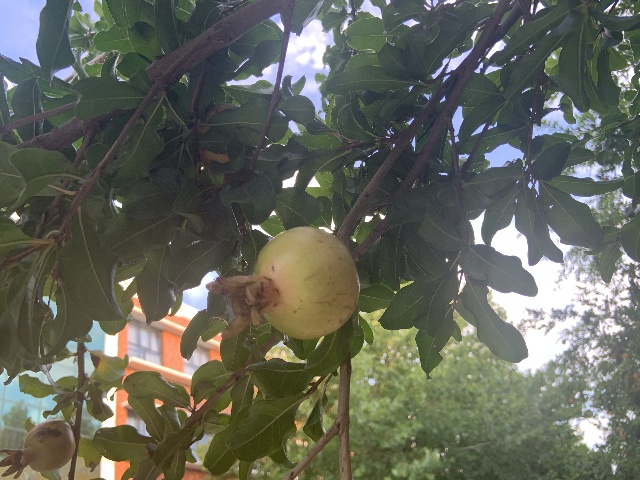mid-growth: (206, 226, 360, 341), (0, 417, 76, 478)
